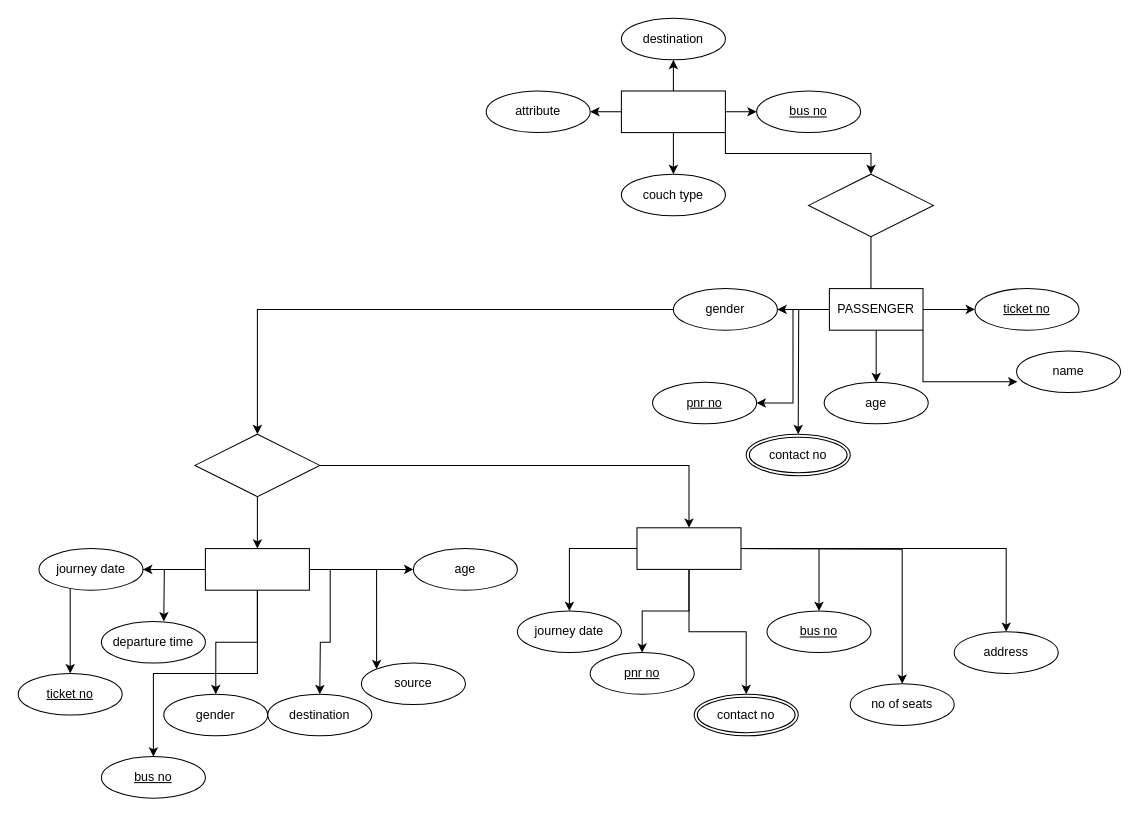
Some shapes in this 1139 by 816 pixel diagram are drawn without their labels. The centre of each missing label's shape, as x and y in pixels:
"ask for" goes at (257,465).
"BUS" goes at (672,111).
"Has" goes at (870,205).
"RESERVATION" goes at (688,548).
"TICKET" goes at (256,569).
